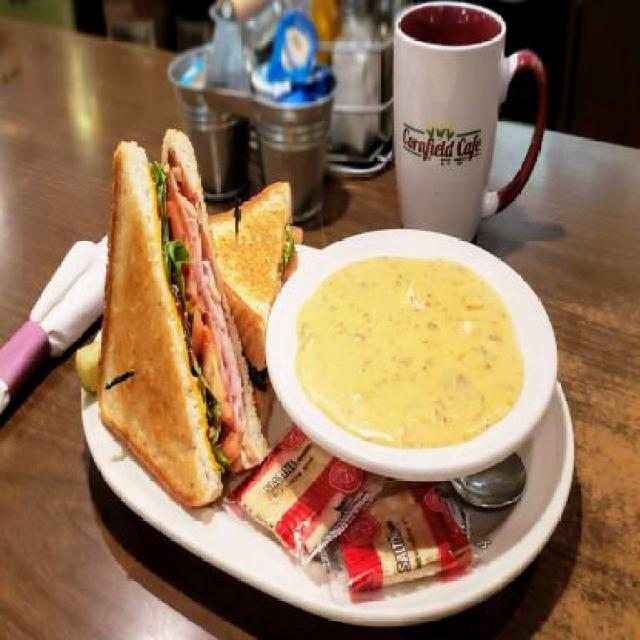clam chowder: (272, 212, 528, 480)
club sandwich: (95, 114, 274, 512)
